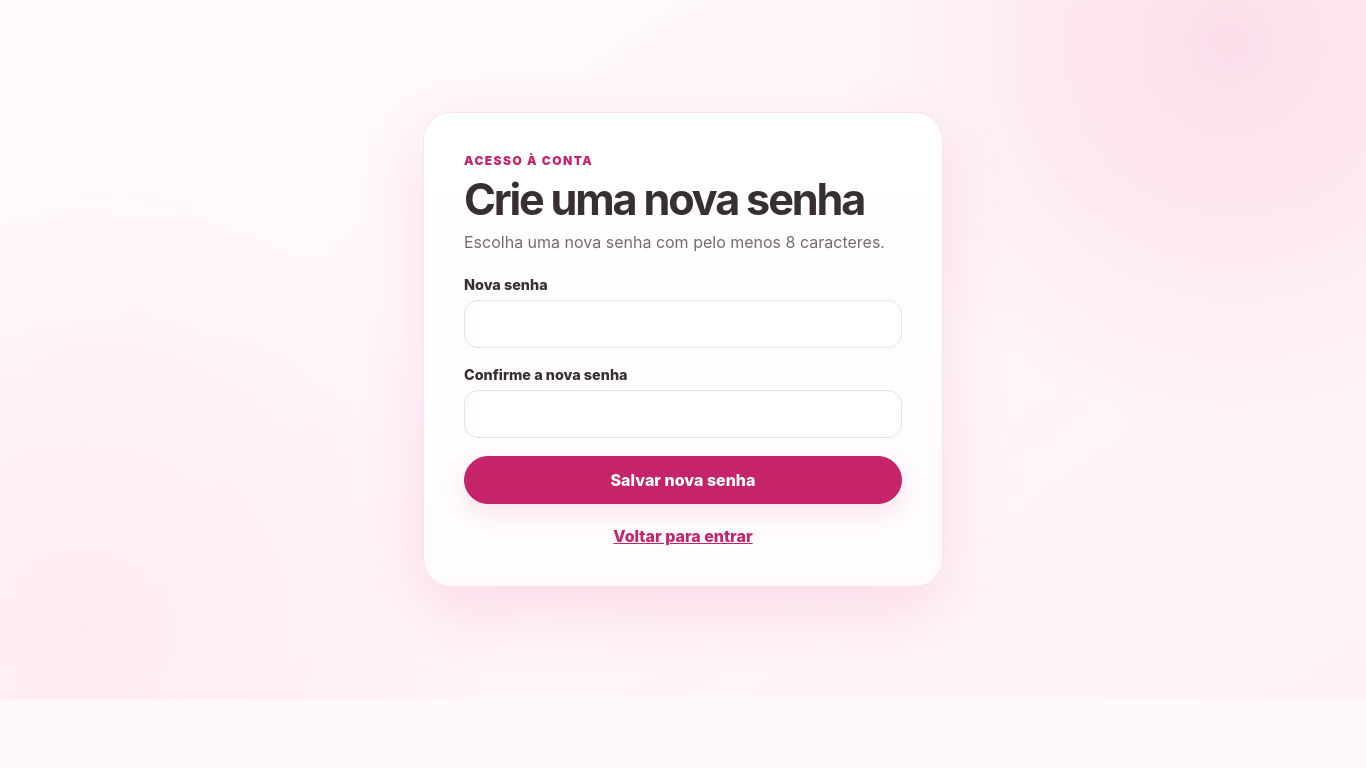
Test: recuperação de senha › conclui a redefinição e oferece retorno ao login
This screenshot has width=1366, height=768.
Type "senha-segura" into the password field labelled "Nova senha".
click(683, 324); type("senha-segura")  # box top-left (464, 300), bottom-right (902, 348)
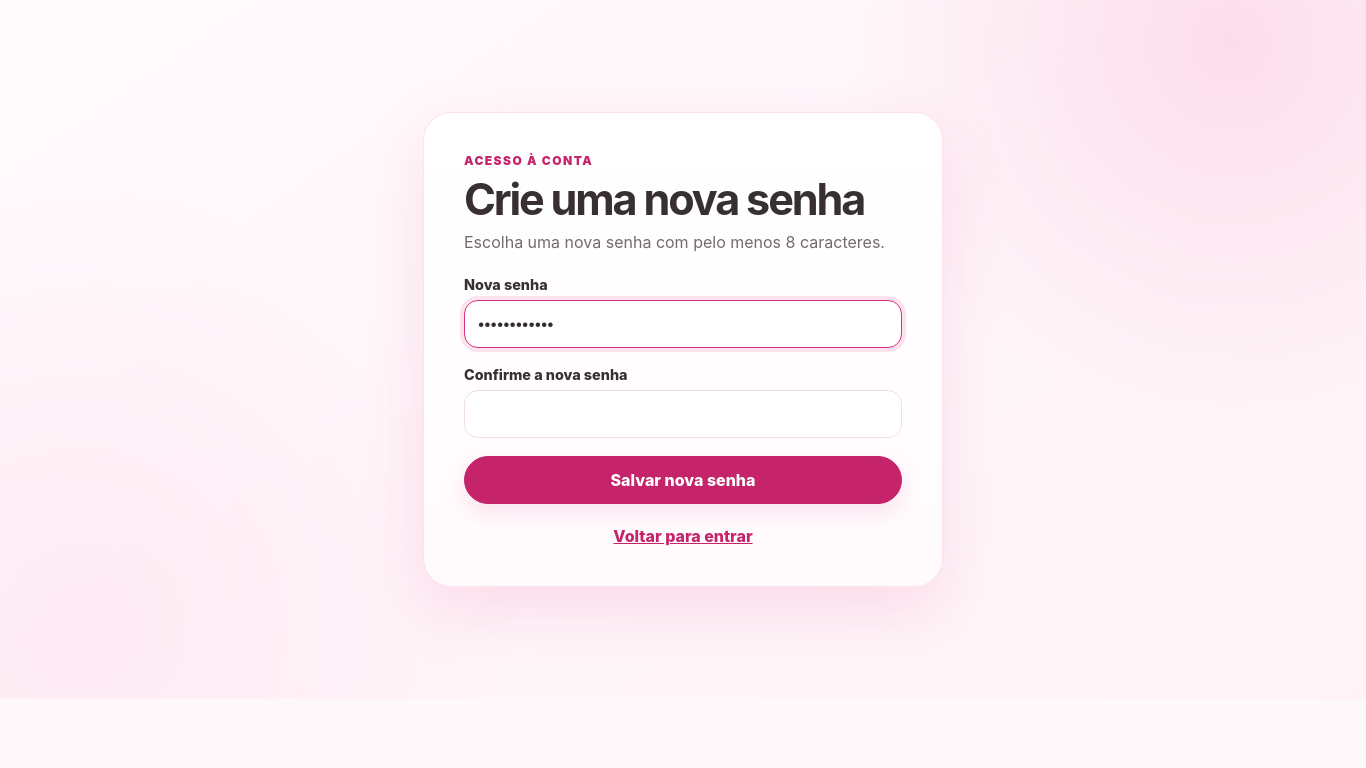
Type "senha-segura" into the password field labelled "Confirme a nova senha".
click(683, 414); type("senha-segura")  # box top-left (464, 390), bottom-right (902, 438)
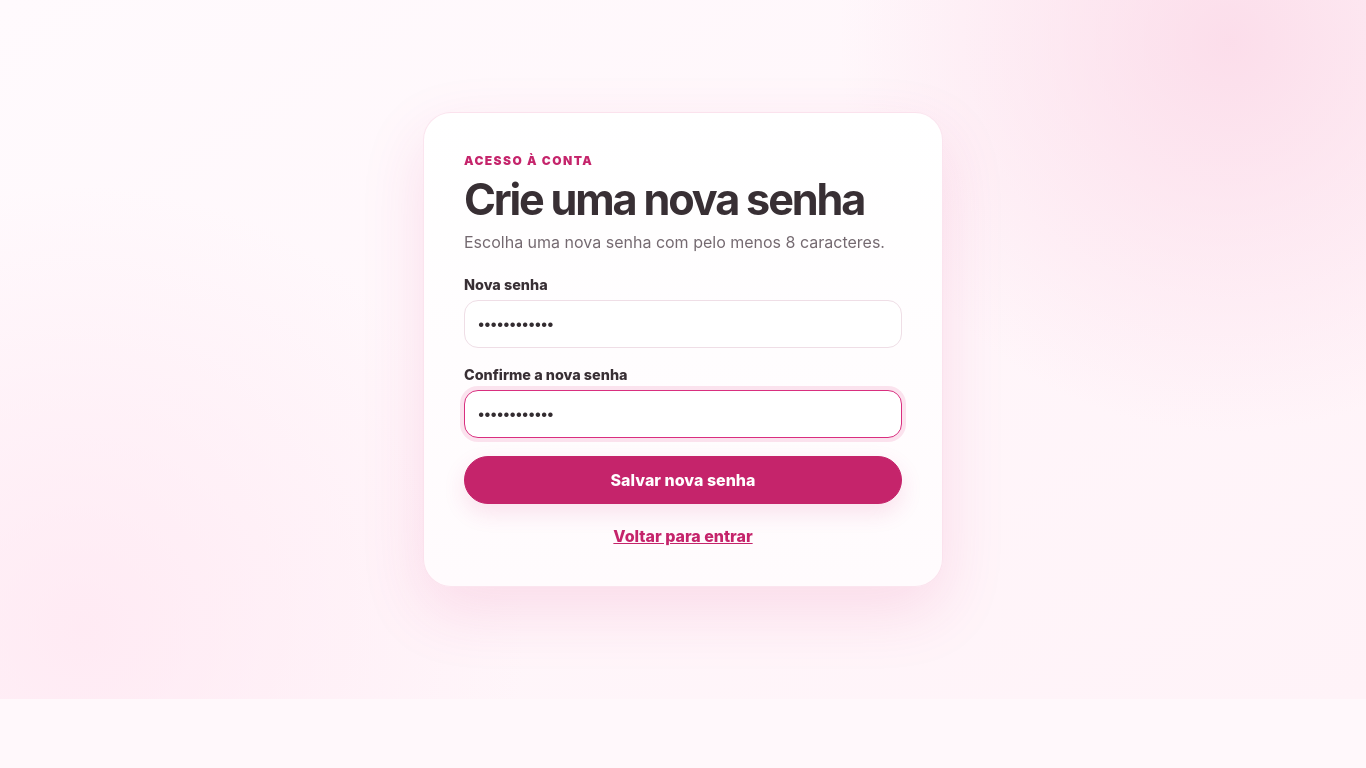
Click the button "Salvar nova senha".
click(683, 480)  # box top-left (464, 456), bottom-right (902, 504)
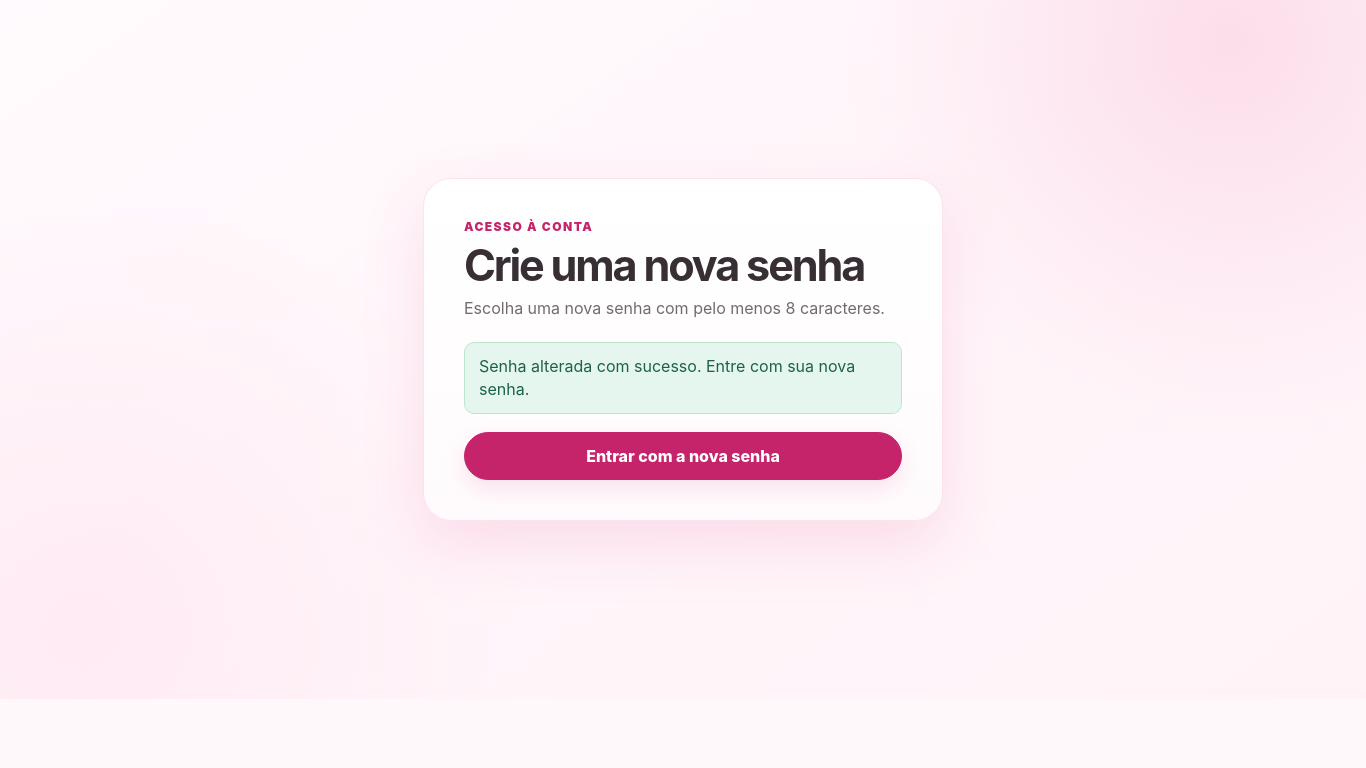
Result: the link "Entrar com a nova senha" is shown at top-left (464, 432), bottom-right (902, 480)
